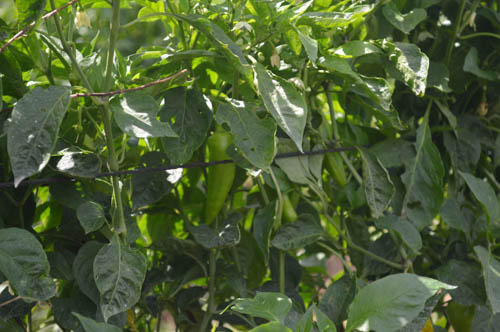ChiliPepper: (202, 137, 235, 229)
